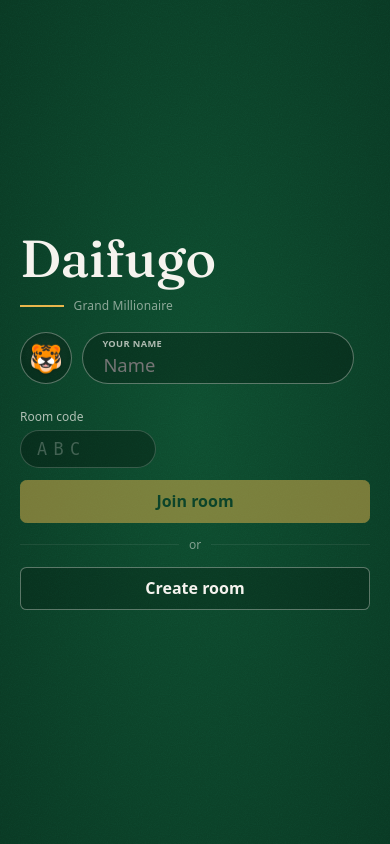
Test: HostPanel › is collapsed by default and opens onto the nine rules, all on
Type "Will" into the field labelled "Your name" at [218, 358], box [82,332,354,384]
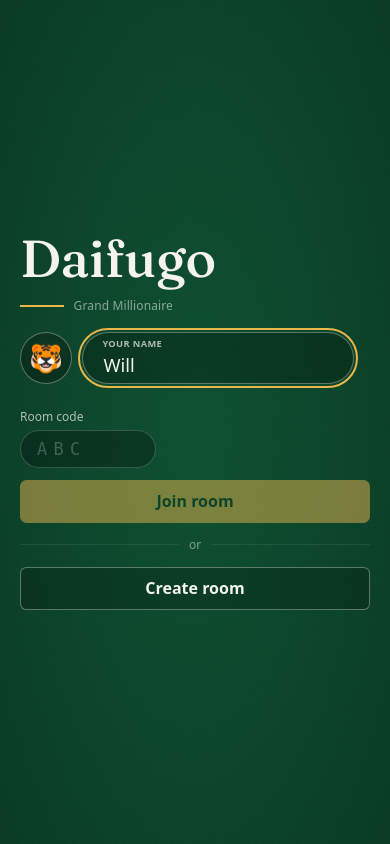
Type "ABC234" into the field labelled "Room code" at [88, 449], box [20,430,156,468]
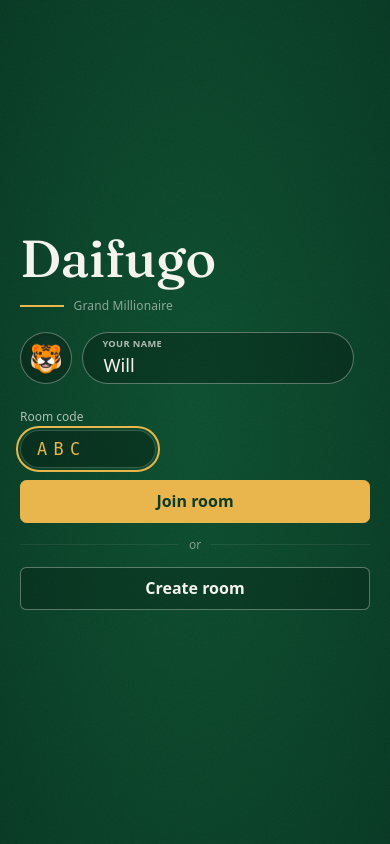
Click the button "Join room" at [195, 501], box [20,480,370,523]
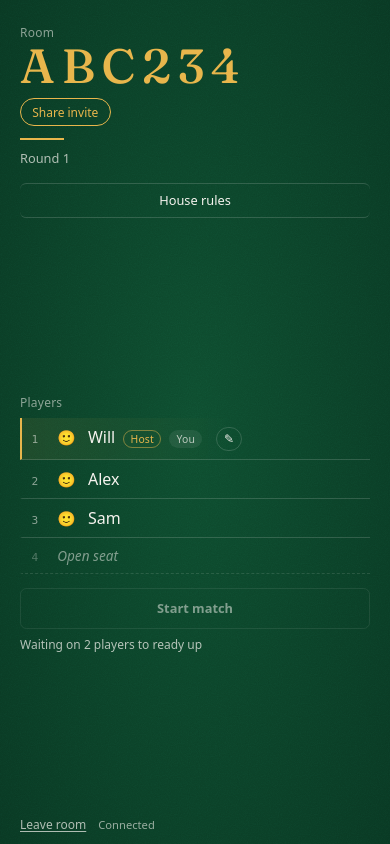
Expected: the checkbox labelled "Eight Cutter" is not shown
Click the button "House rules" at [195, 200], box [20,183,370,218]
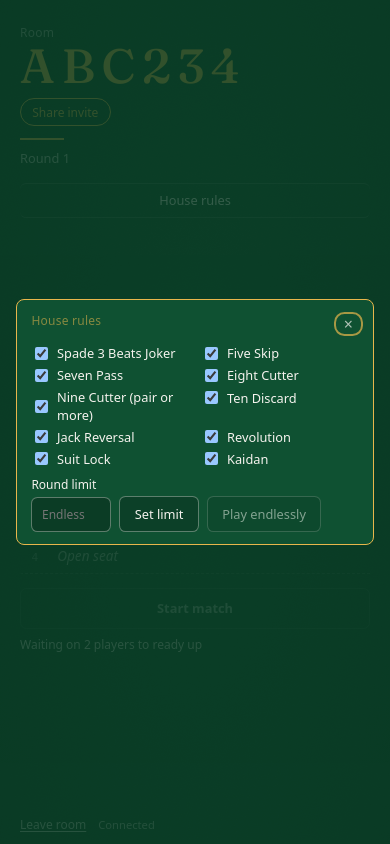
Expected: the number of checkboxes is 10
Expected: the checkbox labelled "Spade 3 Beats Joker" is checked, [35,347,48,360]
Expected: the checkbox labelled "Five Skip" is checked, [205,347,218,360]
